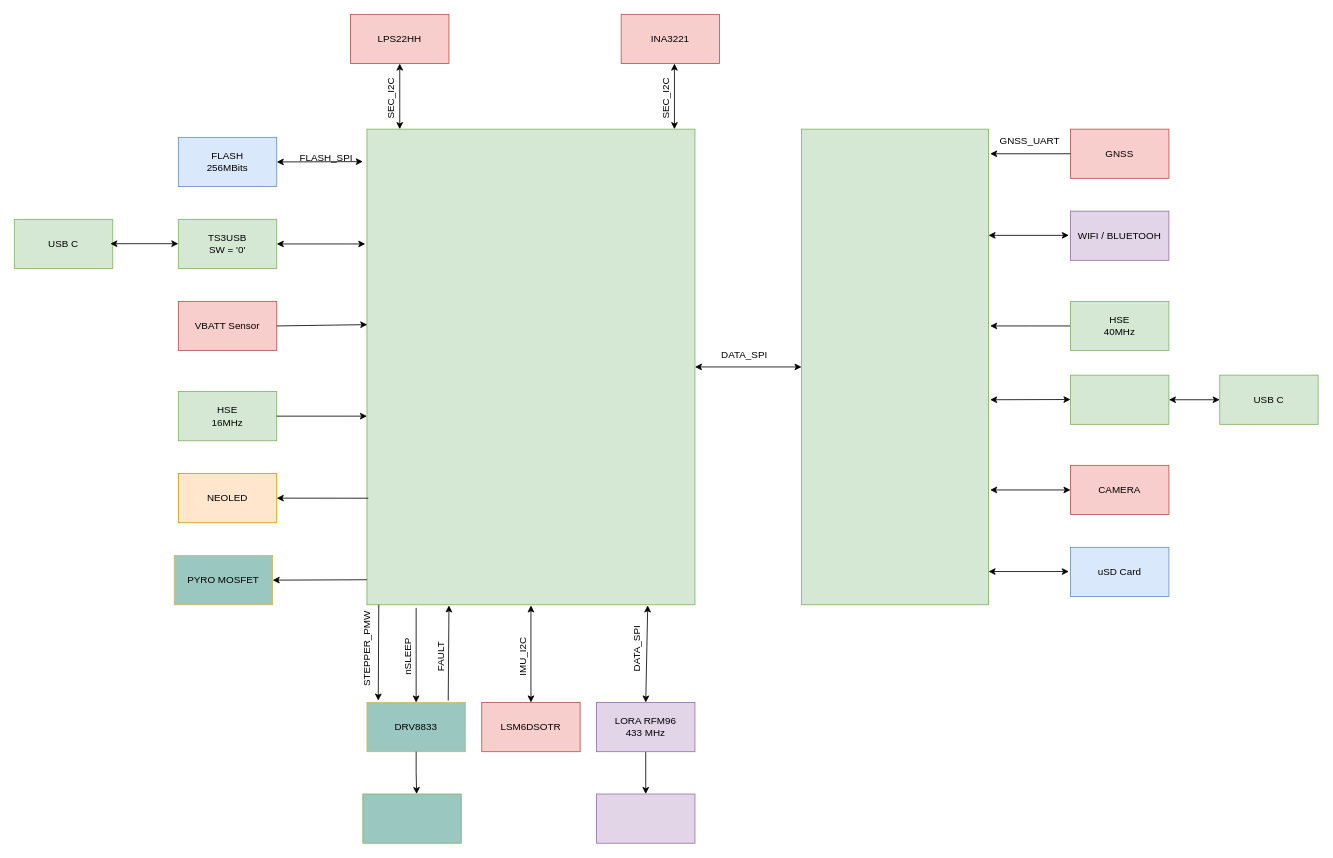
The diagram is 1333 pixels wide and 858 high, and some of its shapes have lost their labels. Here are the shapes that lost their labels. From the top down, the centre of each, then its label:
At (530,366): "STM32F411CE6U 96 MHz".
At (895,366): "ESP32-S3FN8 240 MHz".
At (1119,399): "TS3USB SW = '1'".
At (411,818): "Stepper Motor".
At (645,818): "uFL Connector".
